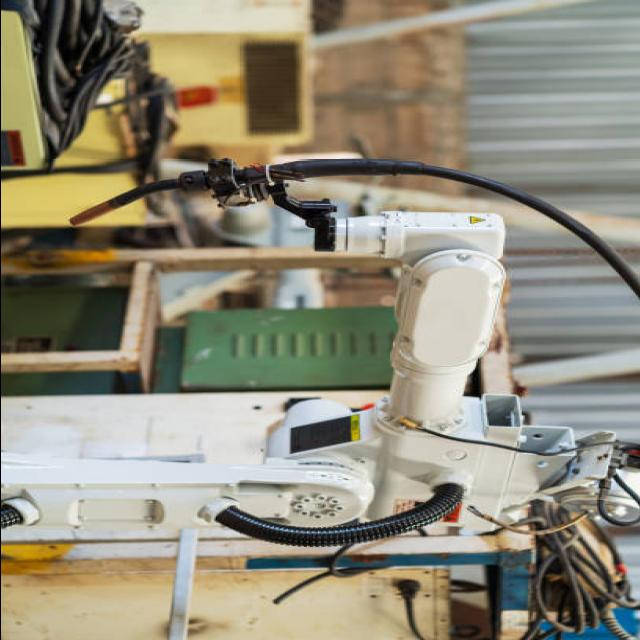Robotic-arm: (196, 200, 522, 542)
